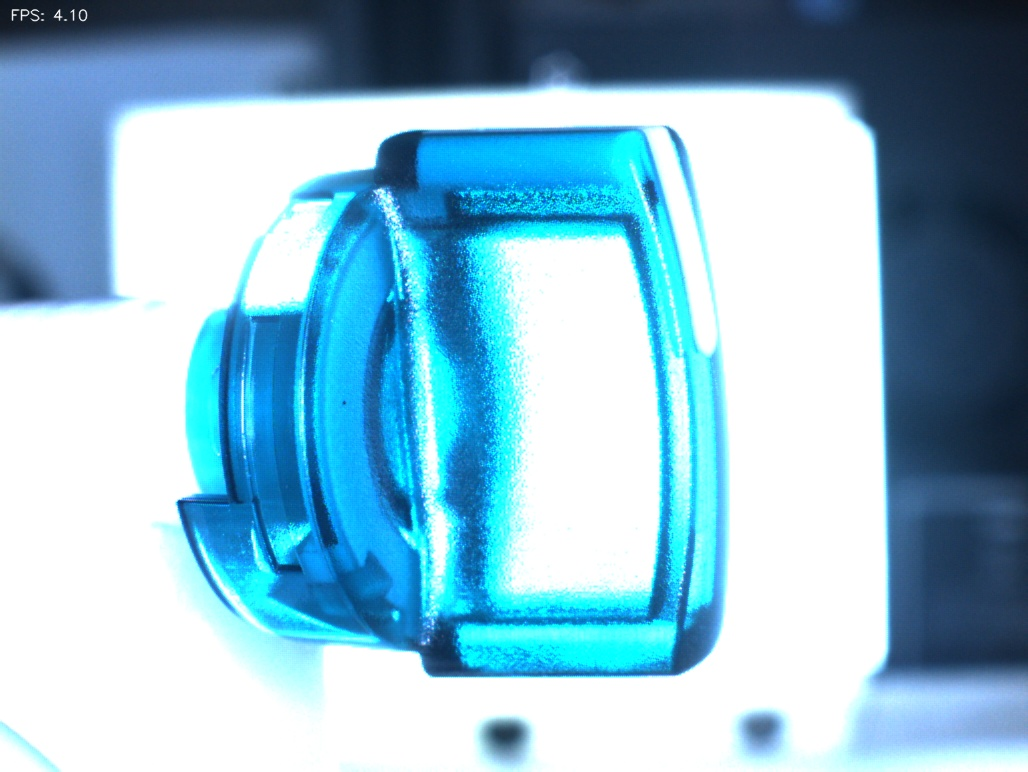PointNoir: (318, 371, 372, 437)
